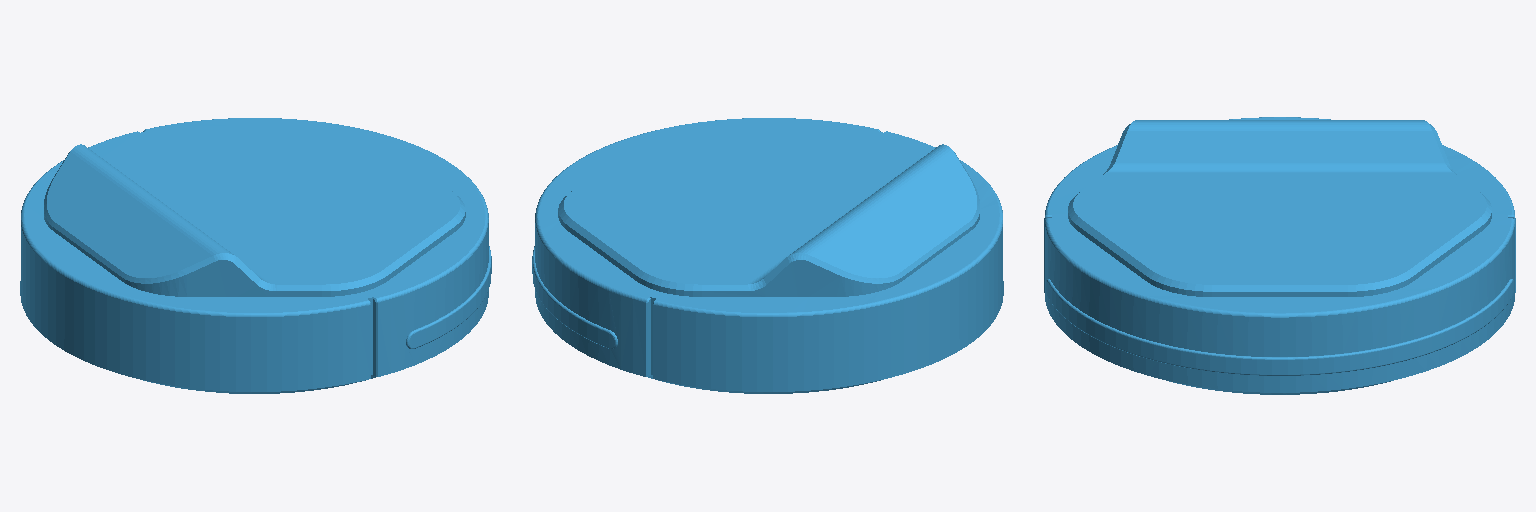
The robot description file, URDF, robot "kobuki_standalone":
<?xml version="1.0" ?>
<!-- =================================================================================== -->
<!-- |    This document was autogenerated by xacro from src/kobuki_ros/kobuki_description/urdf/kobuki_standalone.urdf.xacro | -->
<!-- |    EDITING THIS FILE BY HAND IS NOT RECOMMENDED                                 | -->
<!-- =================================================================================== -->
<robot name="kobuki_standalone" xmlns:controller="http://playerstage.sourceforge.net/gazebo/xmlschema/#controller" xmlns:interface="http://playerstage.sourceforge.net/gazebo/xmlschema/#interface" xmlns:sensor="http://playerstage.sourceforge.net/gazebo/xmlschema/#sensor">
  <link name="base_footprint"/>
  <!--
       Base link is set at the bottom of the base mould.
       This is done to be compatible with the way base link
       was configured for turtlebot 1. Refer to

       https://github.com/turtlebot/turtlebot/issues/40

       To put the base link at the more oft used wheel
       axis, set the z-distance from the base_footprint
       to 0.352.
      -->
  <joint name="base_joint" type="fixed">
    <origin rpy="0 0 0" xyz="0 0 0.0102"/>
    <parent link="base_footprint"/>
    <child link="base_link"/>
  </joint>
  <link name="base_link">
    <visual>
      <geometry>
        <!-- new mesh -->
        <mesh filename="package://kobuki_description/meshes/main_body.dae"/>
      </geometry>
      <origin rpy="0 0 0" xyz="0.001 0 0.05199"/>
    </visual>
    <collision name="base">
      <geometry>
        <cylinder length="0.10938" radius="0.178"/>
      </geometry>
      <origin rpy="0 0 0" xyz="0.0 0 0.05949"/>
    </collision>
    <inertial>
      <!-- COM experimentally determined -->
      <origin xyz="0.01 0 0"/>
      <mass value="2.4"/>
      <!-- 2.4/2.6 kg for small/big battery pack -->
      <!-- Kobuki's inertia tensor is approximated by a cylinder with homogeneous mass distribution
             More details http://en.wikipedia.org/wiki/List_of_moment_of_inertia_tensors
             m = 2.4 kg; h = 0.09 m; r = 0.175 m
             ixx = 1/12 * m * (3 * r^2 + h^2)
             iyy = 1/12 * m * (3 * r^2 + h^2)
             izz = 1/2 * m * r^2
          -->
      <inertia ixx="0.019995" ixy="0.0" ixz="0.0" iyy="0.019995" iyz="0.0" izz="0.03675"/>
    </inertial>
  </link>
  <joint name="wheel_left_joint" type="continuous">
    <parent link="base_link"/>
    <child link="wheel_left_link"/>
    <origin rpy="-1.5707963267948966 0 0" xyz="0.00 0.115 0.0250"/>
    <axis xyz="0 0 1"/>
  </joint>
  <link name="wheel_left_link">
    <visual>
      <geometry>
        <mesh filename="package://kobuki_description/meshes/wheel.dae"/>
      </geometry>
      <origin rpy="0 0 0" xyz="0 0 0"/>
    </visual>
    <collision>
      <geometry>
        <cylinder length="0.0206" radius="0.035"/>
      </geometry>
      <origin rpy="0 0 0" xyz="0 0 0"/>
    </collision>
    <inertial>
      <mass value="0.01"/>
      <origin xyz="0 0 0"/>
      <inertia ixx="0.001" ixy="0.0" ixz="0.0" iyy="0.001" iyz="0.0" izz="0.001"/>
    </inertial>
  </link>
  <joint name="wheel_right_joint" type="continuous">
    <parent link="base_link"/>
    <child link="wheel_right_link"/>
    <origin rpy="-1.5707963267948966 0 0" xyz="0.00 -0.115 0.0250"/>
    <axis xyz="0 0 1"/>
  </joint>
  <link name="wheel_right_link">
    <visual>
      <geometry>
        <mesh filename="package://kobuki_description/meshes/wheel.dae"/>
      </geometry>
      <origin rpy="0 0 0" xyz="0 0 0"/>
    </visual>
    <collision>
      <geometry>
        <cylinder length="0.0206" radius="0.035"/>
      </geometry>
      <origin rpy="0 0 0" xyz="0 0 0"/>
    </collision>
    <inertial>
      <mass value="0.01"/>
      <origin xyz="0 0 0"/>
      <inertia ixx="0.001" ixy="0.0" ixz="0.0" iyy="0.001" iyz="0.0" izz="0.001"/>
    </inertial>
  </link>
  <joint name="caster_front_joint" type="fixed">
    <parent link="base_link"/>
    <child link="caster_front_link"/>
    <origin rpy="-1.5707963267948966 0 0" xyz="0.115 0.0 0.007"/>
  </joint>
  <link name="caster_front_link">
    <collision>
      <geometry>
        <cylinder length="0.0176" radius="0.017"/>
      </geometry>
      <origin rpy="0 0 0" xyz="0 0 0"/>
    </collision>
    <inertial>
      <mass value="0.01"/>
      <origin xyz="0 0 0"/>
      <inertia ixx="0.001" ixy="0.0" ixz="0.0" iyy="0.001" iyz="0.0" izz="0.001"/>
    </inertial>
  </link>
  <joint name="caster_back_joint" type="fixed">
    <parent link="base_link"/>
    <child link="caster_back_link"/>
    <origin rpy="-1.5707963267948966 0 0" xyz="-0.135 0.0 0.009"/>
  </joint>
  <link name="caster_back_link">
    <collision>
      <geometry>
        <cylinder length="0.0176" radius="0.017"/>
      </geometry>
      <origin rpy="0 0 0" xyz="0 0 0"/>
    </collision>
    <inertial>
      <mass value="0.01"/>
      <origin xyz="0 0 0"/>
      <inertia ixx="0.001" ixy="0.0" ixz="0.0" iyy="0.001" iyz="0.0" izz="0.001"/>
    </inertial>
  </link>
  <!-- Kobuki's sensors -->
  <joint name="gyro_joint" type="fixed">
    <axis xyz="0 1 0"/>
    <origin rpy="0 0 0" xyz="0.056 0.062 0.0202"/>
    <parent link="base_link"/>
    <child link="gyro_link"/>
  </joint>
  <link name="gyro_link">
    <inertial>
      <mass value="0.001"/>
      <origin rpy="0 0 0" xyz="0 0 0"/>
      <inertia ixx="0.0001" ixy="0" ixz="0" iyy="0.000001" iyz="0" izz="0.0001"/>
    </inertial>
  </link>
  <joint name="cliff_sensor_left_joint" type="fixed">
    <origin rpy="0 1.5707963267948966 0" xyz="0.08734 0.13601 0.0214"/>
    <parent link="base_link"/>
    <child link="cliff_sensor_left_link"/>
  </joint>
  <link name="cliff_sensor_left_link">
    <inertial>
      <mass value="0.0001"/>
      <origin xyz="0 0 0"/>
      <inertia ixx="0.0001" ixy="0.0" ixz="0.0" iyy="0.0001" iyz="0.0" izz="0.0001"/>
    </inertial>
  </link>
  <joint name="cliff_sensor_right_joint" type="fixed">
    <origin rpy="0 1.5707963267948966 0" xyz="0.085 -0.13601 0.0214"/>
    <parent link="base_link"/>
    <child link="cliff_sensor_right_link"/>
  </joint>
  <link name="cliff_sensor_right_link">
    <inertial>
      <mass value="0.0001"/>
      <origin xyz="0 0 0"/>
      <inertia ixx="0.0001" ixy="0.0" ixz="0.0" iyy="0.0001" iyz="0.0" izz="0.0001"/>
    </inertial>
  </link>
  <joint name="cliff_sensor_front_joint" type="fixed">
    <origin rpy="0 1.5707963267948966 0" xyz="0.156 0.00 0.0214"/>
    <parent link="base_link"/>
    <child link="cliff_sensor_front_link"/>
  </joint>
  <link name="cliff_sensor_front_link">
    <inertial>
      <mass value="0.0001"/>
      <origin xyz="0 0 0"/>
      <inertia ixx="0.0001" ixy="0.0" ixz="0.0" iyy="0.0001" iyz="0.0" izz="0.0001"/>
    </inertial>
  </link>
  <gazebo reference="wheel_left_link">
    <mu1>1.0</mu1>
    <mu2>1.0</mu2>
    <kp>1000000.0</kp>
    <kd>100.0</kd>
    <minDepth>0.001</minDepth>
    <maxVel>1.0</maxVel>
  </gazebo>
  <gazebo reference="wheel_right_link">
    <mu1>1.0</mu1>
    <mu2>1.0</mu2>
    <kp>1000000.0</kp>
    <kd>100.0</kd>
    <minDepth>0.001</minDepth>
    <maxVel>1.0</maxVel>
  </gazebo>
  <gazebo reference="caster_front_link">
    <mu1>0.0</mu1>
    <mu2>0.0</mu2>
    <kp>1000000.0</kp>
    <kd>100.0</kd>
    <minDepth>0.001</minDepth>
    <maxVel>1.0</maxVel>
  </gazebo>
  <gazebo reference="caster_back_link">
    <mu1>0.0</mu1>
    <mu2>0.0</mu2>
    <kp>1000000.0</kp>
    <kd>100.0</kd>
    <minDepth>0.001</minDepth>
    <maxVel>1.0</maxVel>
  </gazebo>
  <gazebo reference="base_link">
    <mu1>0.3</mu1>
    <mu2>0.3</mu2>
    <sensor name="bumpers" type="contact">
      <always_on>1</always_on>
      <update_rate>50.0</update_rate>
      <visualize>true</visualize>
      <contact>
        <collision>base_footprint_fixed_joint_lump__base_collision</collision>
      </contact>
    </sensor>
  </gazebo>
  <gazebo reference="cliff_sensor_left_link">
    <sensor name="cliff_sensor_left" type="ray">
      <always_on>true</always_on>
      <update_rate>50</update_rate>
      <visualize>true</visualize>
      <ray>
        <scan>
          <horizontal>
            <samples>50</samples>
            <resolution>1.0</resolution>
            <min_angle>-0.0436</min_angle>
            <!-- -2.5 degree -->
            <max_angle>0.0436</max_angle>
            <!-- 2.5 degree -->
          </horizontal>
          <!-- Can't use vertical rays until this bug is resolved -->
          <!-- https://bitbucket.org/osrf/gazebo/issue/509/vertical-sensor-doesnt-works -->
          <!-- <vertical> -->
          <!--     <samples>50</samples> -->
          <!--     <resolution>1.0</resolution> -->
          <!--     <min_angle>-0.0436</min_angle>  -2.5 degree -->
          <!--     <max_angle>0.0436</max_angle> 2.5 degree -->
          <!-- </vertical> -->
        </scan>
        <range>
          <min>0.01</min>
          <max>0.15</max>
          <resolution>1.0</resolution>
        </range>
      </ray>
    </sensor>
  </gazebo>
  <gazebo reference="cliff_sensor_right_link">
    <sensor name="cliff_sensor_right" type="ray">
      <always_on>true</always_on>
      <update_rate>50</update_rate>
      <visualize>true</visualize>
      <ray>
        <scan>
          <horizontal>
            <samples>50</samples>
            <resolution>1.0</resolution>
            <min_angle>-0.0436</min_angle>
            <!-- -2.5 degree -->
            <max_angle>0.0436</max_angle>
            <!-- 2.5 degree -->
          </horizontal>
          <!-- Can't use vertical rays until this bug is resolved -->
          <!-- https://bitbucket.org/osrf/gazebo/issue/509/vertical-sensor-doesnt-works -->
          <!-- <vertical> -->
          <!--     <samples>50</samples> -->
          <!--     <resolution>1.0</resolution> -->
          <!--     <min_angle>-0.0436</min_angle>  -2.5 degree -->
          <!--     <max_angle>0.0436</max_angle> 2.5 degree -->
          <!-- </vertical> -->
        </scan>
        <range>
          <min>0.01</min>
          <max>0.15</max>
          <resolution>1.0</resolution>
        </range>
      </ray>
    </sensor>
  </gazebo>
  <gazebo reference="cliff_sensor_front_link">
    <sensor name="cliff_sensor_front" type="ray">
      <always_on>true</always_on>
      <update_rate>50</update_rate>
      <visualize>true</visualize>
      <ray>
        <scan>
          <horizontal>
            <samples>50</samples>
            <resolution>1.0</resolution>
            <min_angle>-0.0436</min_angle>
            <!-- -2.5 degree -->
            <max_angle>0.0436</max_angle>
            <!-- 2.5 degree -->
          </horizontal>
          <!-- Can't use vertical rays until this bug is resolved -->
          <!-- https://bitbucket.org/osrf/gazebo/issue/509/vertical-sensor-doesnt-works -->
          <!-- <vertical> -->
          <!--     <samples>50</samples> -->
          <!--     <resolution>1.0</resolution> -->
          <!--     <min_angle>-0.0436</min_angle>  -2.5 degree -->
          <!--     <max_angle>0.0436</max_angle> 2.5 degree -->
          <!-- </vertical> -->
        </scan>
        <range>
          <min>0.01</min>
          <max>0.15</max>
          <resolution>1.0</resolution>
        </range>
      </ray>
    </sensor>
  </gazebo>
  <gazebo reference="gyro_link">
    <sensor name="imu" type="imu">
      <plugin filename="libgazebo_ros_imu_sensor.so" name="gazebo_ros_imu_controller">
        <ros>
          <argument>~/out:=imu</argument>
        </ros>
        <output_type>sensor_msgs/msg/Imu</output_type>
        <body_name>gyro_link</body_name>
        <frame_name>gyro_link</frame_name>
      </plugin>
      <always_on>true</always_on>
      <update_rate>50</update_rate>
      <visualize>false</visualize>
      <imu>
        <noise>
          <type>gaussian</type>
          <rate>
            <mean>0.0</mean>
            <stddev>1.96e-06</stddev>
            <!-- 0.25 x 0.25 (deg/s) -->
            <bias_mean>0.0</bias_mean>
            <bias_stddev>0.0</bias_stddev>
          </rate>
          <accel>
            <!-- not used in the plugin and real robot, hence using tutorial values -->
            <mean>0.0</mean>
            <stddev>1.7e-2</stddev>
            <bias_mean>0.1</bias_mean>
            <bias_stddev>0.001</bias_stddev>
          </accel>
        </noise>
      </imu>
    </sensor>
  </gazebo>
  <gazebo>
    <plugin filename="libgazebo_ros_diff_drive.so" name="differential_drive_controller">
      <update_rate>10</update_rate>
      <left_joint>wheel_left_joint</left_joint>
      <right_joint>wheel_right_joint</right_joint>
      <wheel_separation>0.230</wheel_separation>
      <wheel_diameter>0.070</wheel_diameter>
      <max_wheel_torque>1.0</max_wheel_torque>
      <max_wheel_acceleration>1.0</max_wheel_acceleration>
      <command_topic>cmd_vel</command_topic>
      <!-- output -->
      <publish_odom>true</publish_odom>
      <publish_odom_tf>true</publish_odom_tf>
      <publish_wheel_tf>true</publish_wheel_tf>
      <odometry_topic>odom</odometry_topic>
      <odometry_frame>odom</odometry_frame>
      <robot_base_frame>base_link</robot_base_frame>
    </plugin>
  </gazebo>
</robot>

--- Render facts (derived) ---
Views: 3 orthographic renders of the robot side by side, from view 1: azimuth 30°, elevation 25°; view 2: azimuth 150°, elevation 25°; view 3: azimuth 270°, elevation 25°.
Robot: kobuki_standalone — 10 links, 9 joints (2 continuous, 7 fixed); root link base_footprint; default pose: every joint at zero.
Visible links, largest first — view 1: base_link; view 2: base_link; view 3: base_link.
Link boxes in pixels (<box>): base_link: <box>20,118,491,393</box>; base_link: <box>532,118,1003,393</box>; base_link: <box>1044,117,1515,394</box>.
Bounding box of the posed robot: 0.3518 × 0.35 × 0.1243 m (x, y, z).
3 mesh visuals loaded from 2 distinct referenced files (2 Collada DAE).
